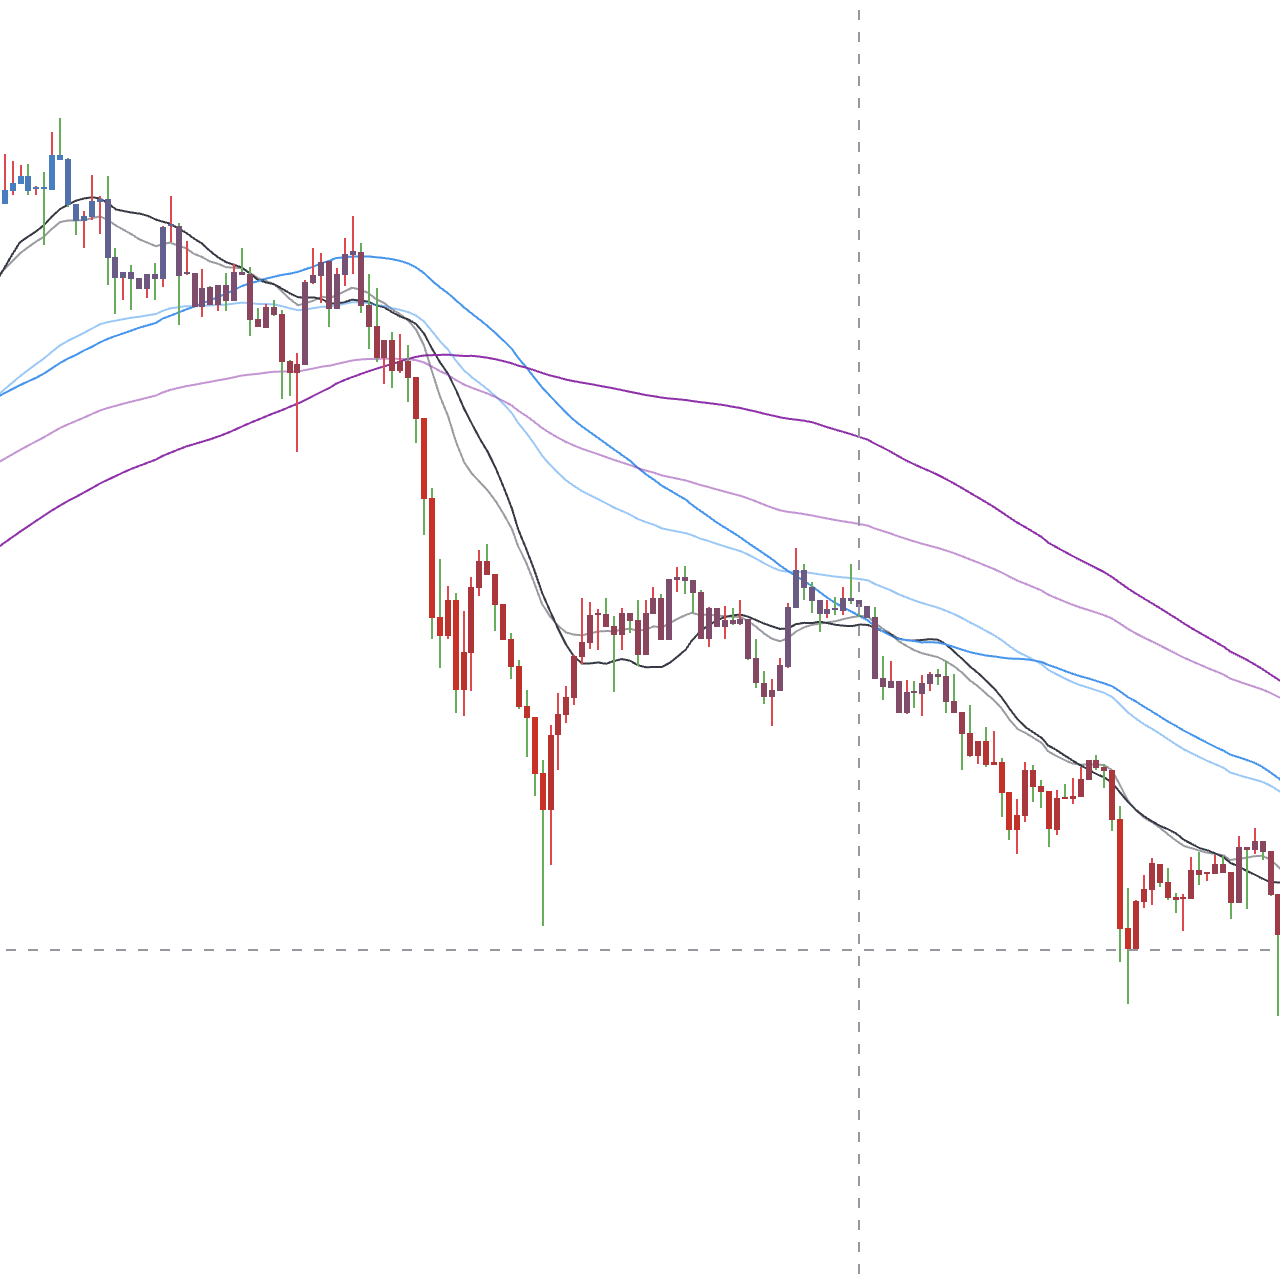ma_cluster: (335, 315, 502, 501)
